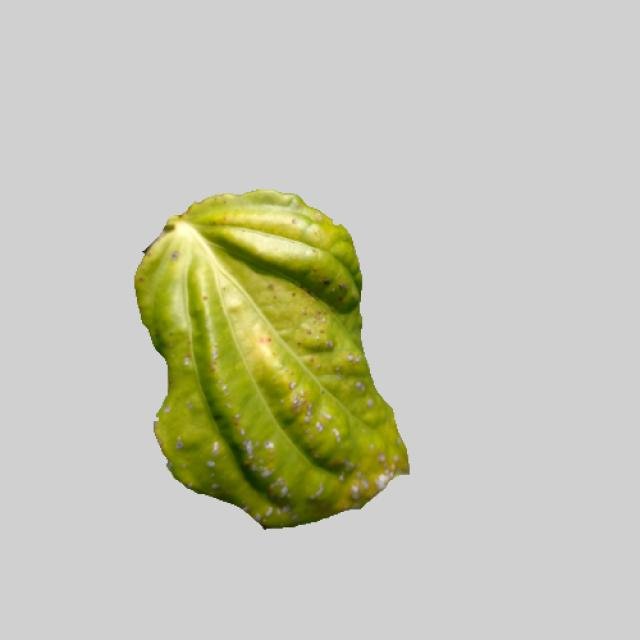yellow-mottle-virus: (123, 187, 407, 523)
